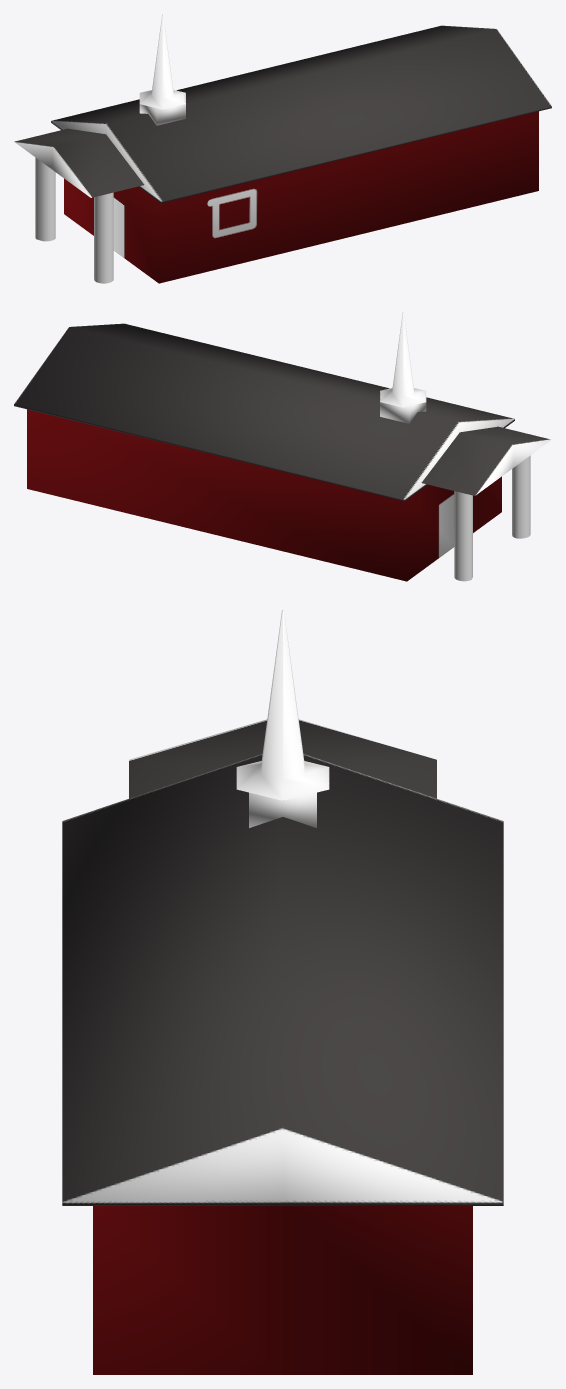
Rendered from Church.fbx.
The picture shows the model from 3 angles, top to bottom: view 1: azimuth 30°, elevation 25°; view 2: azimuth 150°, elevation 25°; view 3: azimuth 270°, elevation 25°; orthographic projection. The views are drawn at different scales.
Visible parts, largest first — view 1: Cube; view 2: Cube; view 3: Cube.
Part boxes in pixels (x1=…): Cube: x1=14, y1=14, x2=551, y2=283; Cube: x1=14, y1=312, x2=551, y2=581; Cube: x1=62, y1=610, x2=503, y2=1374.
Size of the model in its own units: 8298 by 3997 by 3569.
